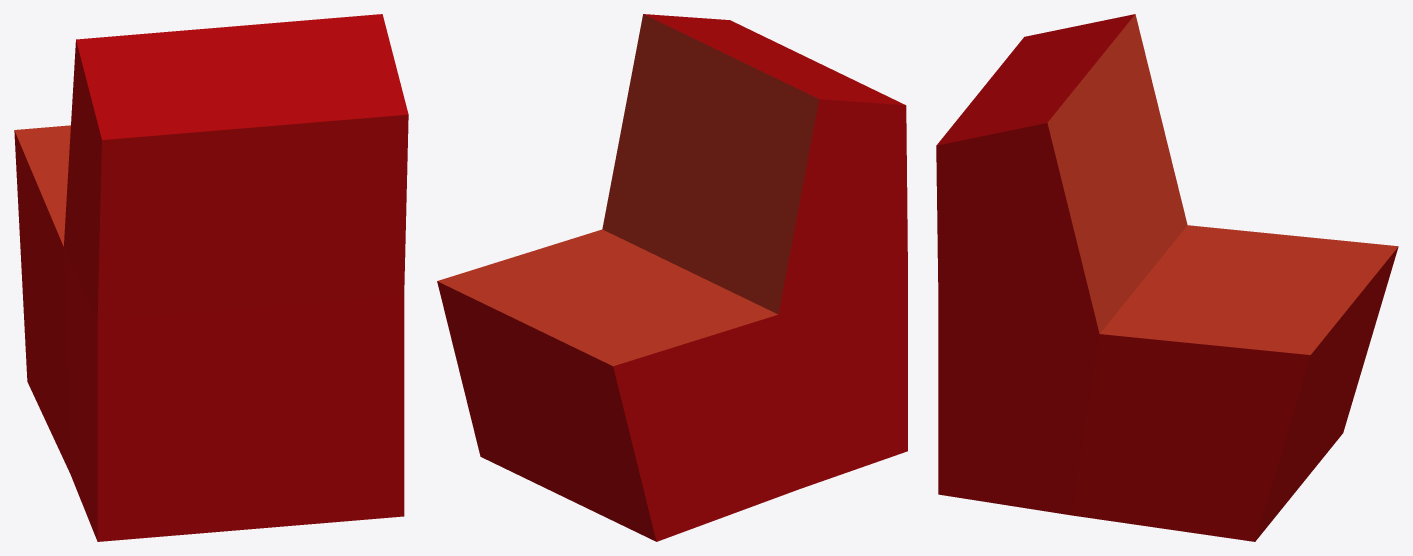
File: CubeChairRed.fbx
3 renders of one model, left to right at view 1: azimuth 30°, elevation 25°; view 2: azimuth 150°, elevation 25°; view 3: azimuth 270°, elevation 25°, orthographic. The views are drawn at different scales.
Visible parts, largest first — view 1: CubeChair; view 2: CubeChair; view 3: CubeChair.
Boxes of the visible parts, left/top/right/bottom form: CubeChair: left=14, top=14, right=408, bottom=541; CubeChair: left=437, top=14, right=907, bottom=541; CubeChair: left=936, top=14, right=1398, bottom=541.
Bounding box in the file's own units: 97.89 × 108 × 116.
